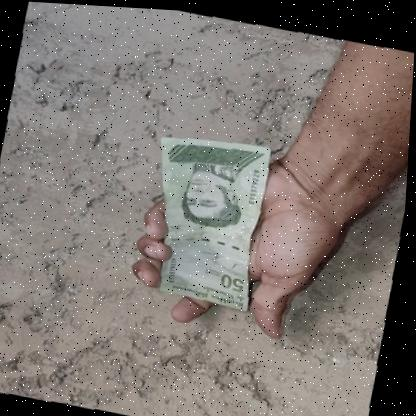fifty-front-vef: (132, 121, 283, 309)
